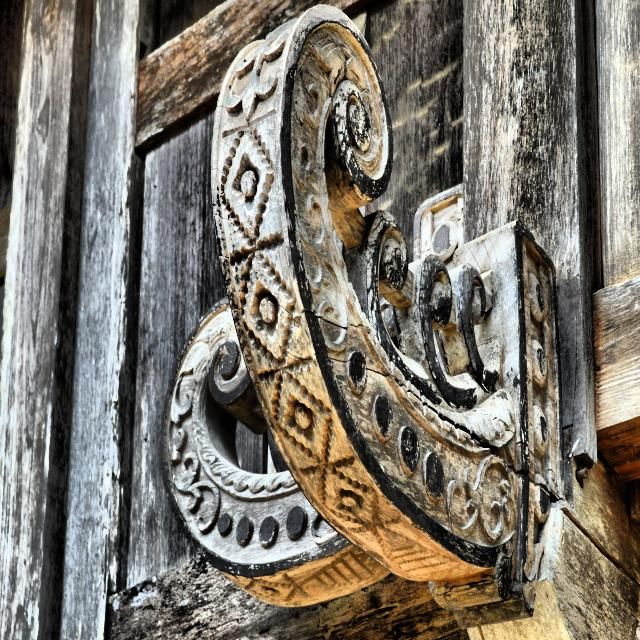ornamen: (160, 5, 570, 640)
